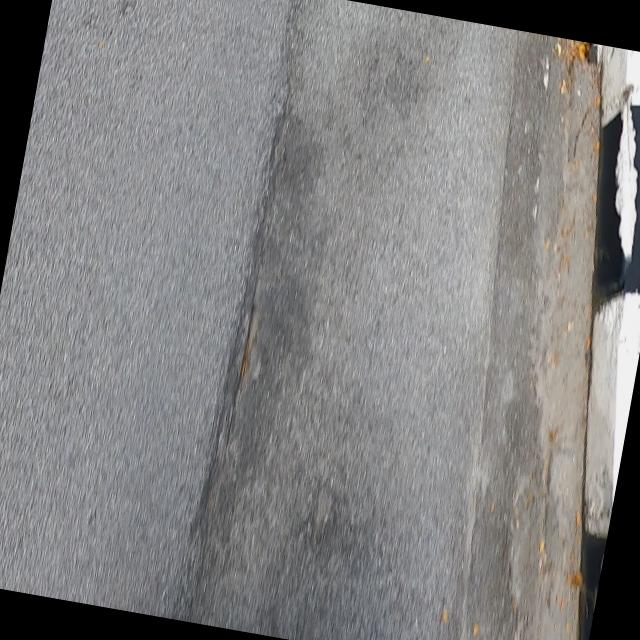Retak-Memanjang: (223, 0, 299, 459), (199, 234, 253, 517)
